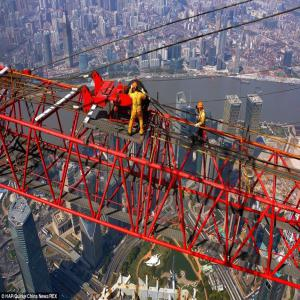yellow: (198, 102, 205, 114), (132, 83, 139, 93)
